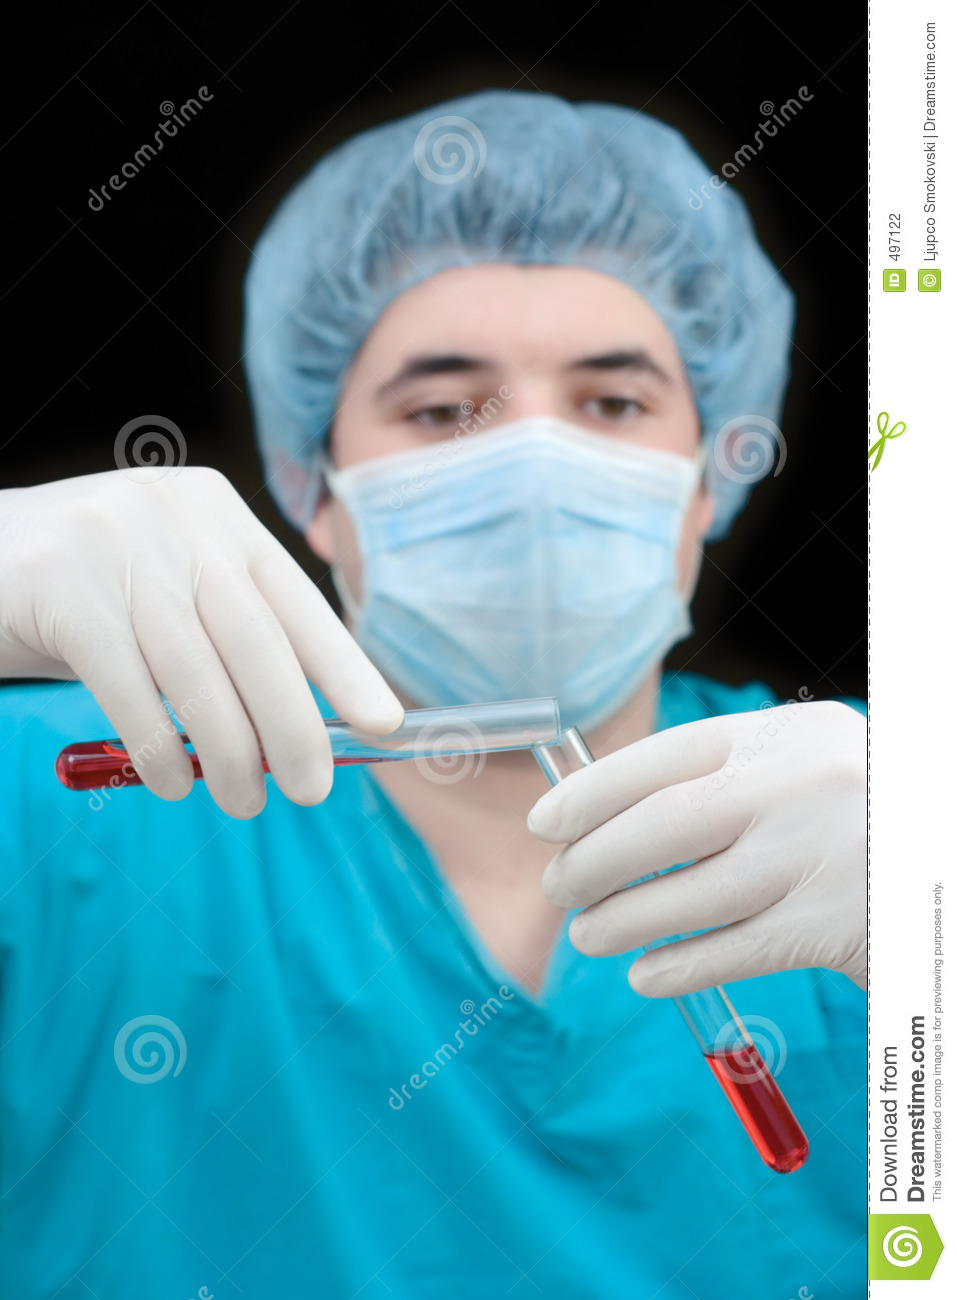mask: (334, 447, 714, 725)
